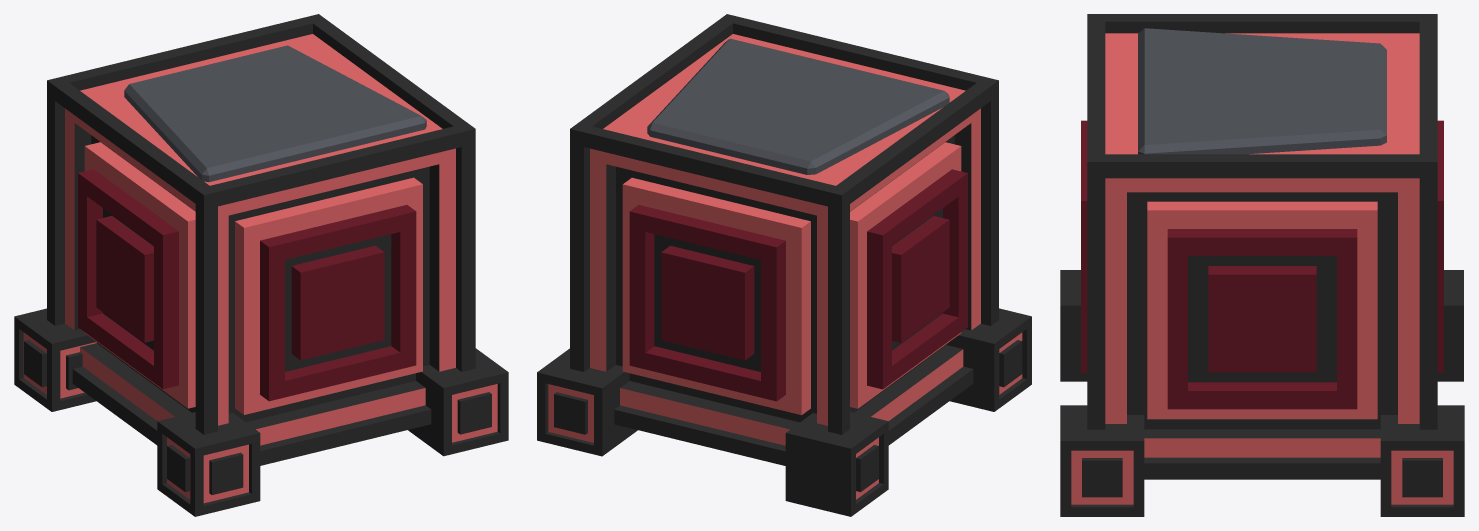
The model's file is heavy_block.fbx.
3 renders of one model, left to right at view 1: azimuth 30°, elevation 25°; view 2: azimuth 150°, elevation 25°; view 3: azimuth 270°, elevation 25°, orthographic. The views are drawn at different scales.
Parts seen in each view (by area): view 1: Mesh; view 2: Mesh; view 3: Mesh.
Boxes of the visible parts, bbox=[...] form: Mesh: bbox=[14, 14, 508, 516]; Mesh: bbox=[537, 14, 1031, 516]; Mesh: bbox=[1060, 14, 1464, 516].
Size of the model in its own units: 0.8919 by 0.8397 by 0.8919.
